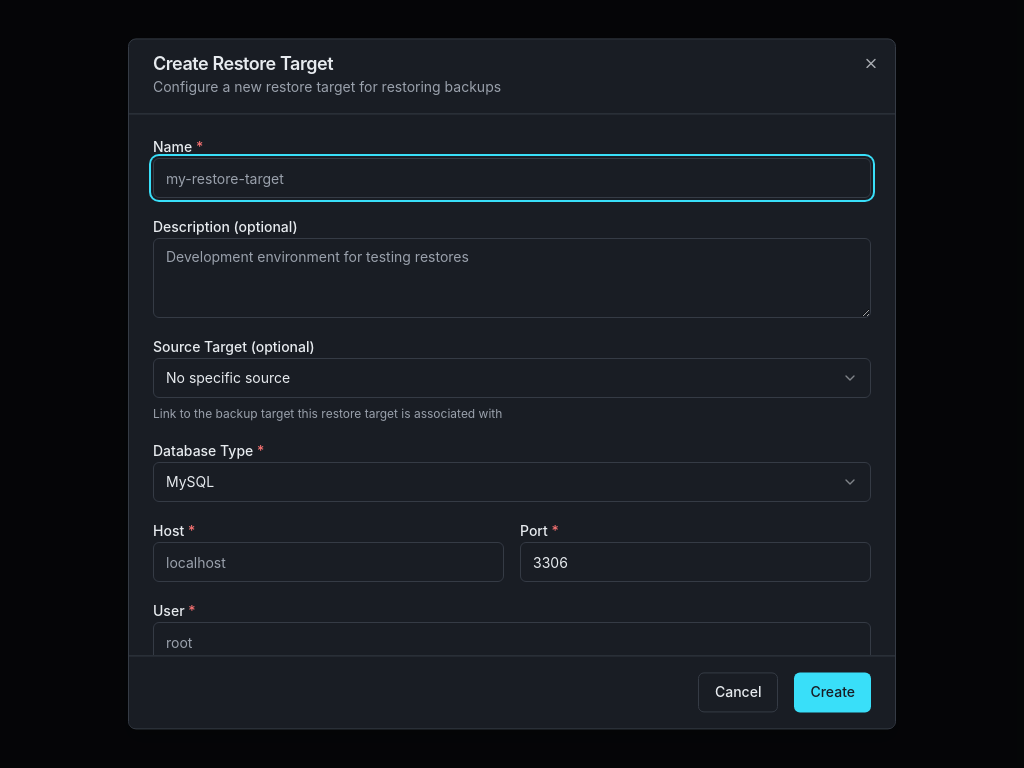
Test: RestoreTargetForm › applies the engine default port when the type changes
This screenshot has width=1024, height=768.
Click the dropdown named "database type *". click: [190, 482]
box: [153,462,871,502]
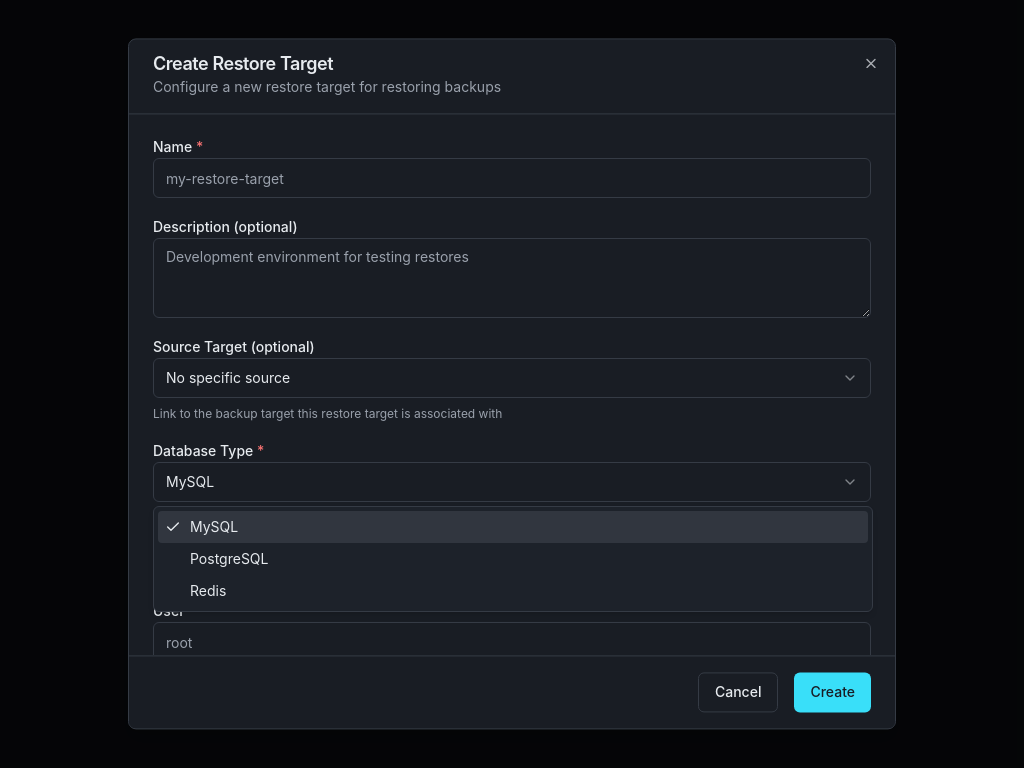
Click the option "PostgreSQL". click: [229, 558]
box: [190,550,268,567]
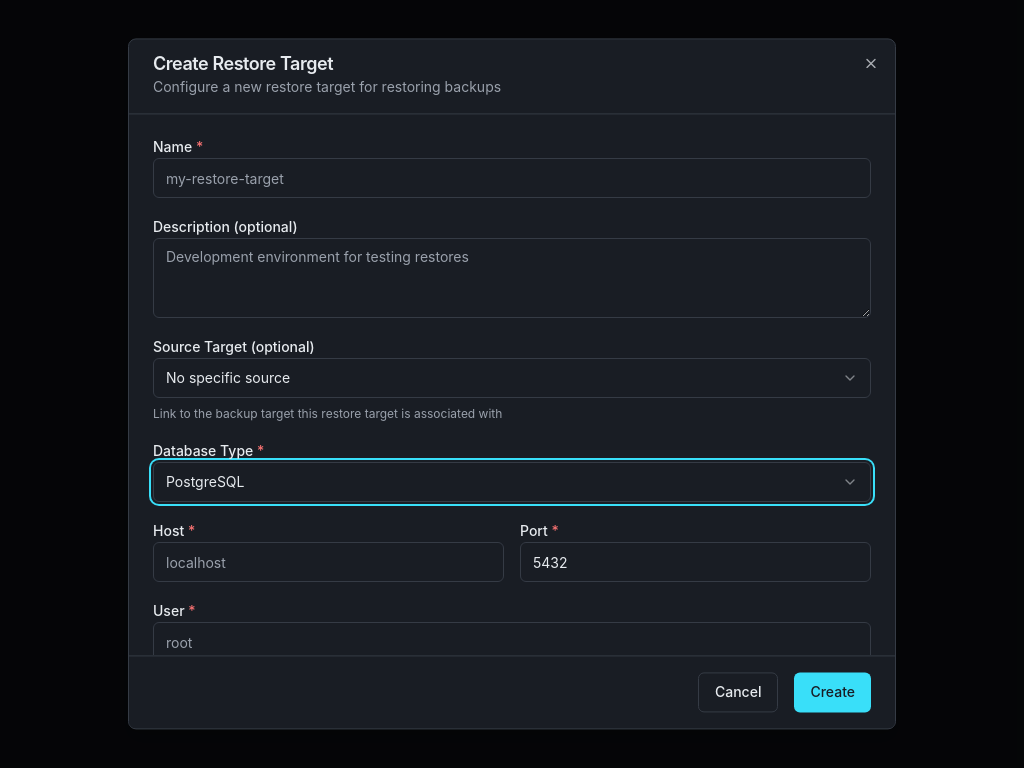
expect the number field labelled "Port *" holds "5432": met, box [520,542,871,582]
